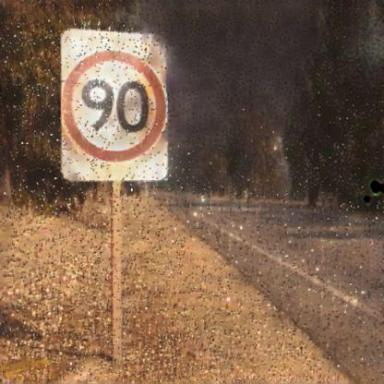Speed_limit_90: (63, 54, 168, 162)
